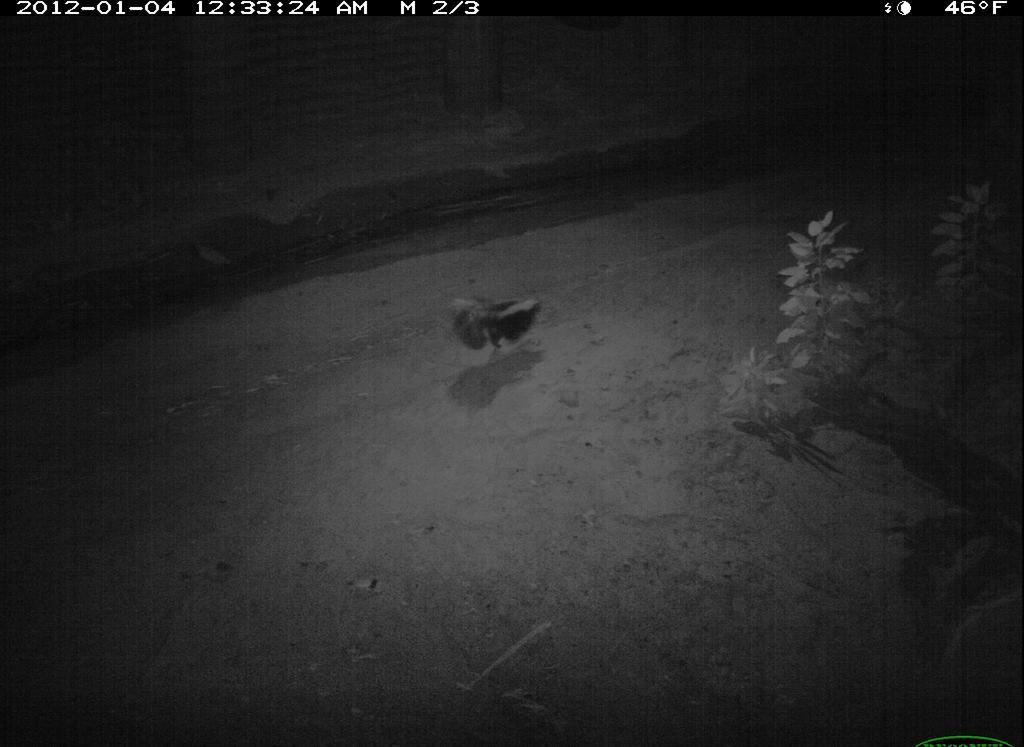skunk: (443, 283, 555, 363)
